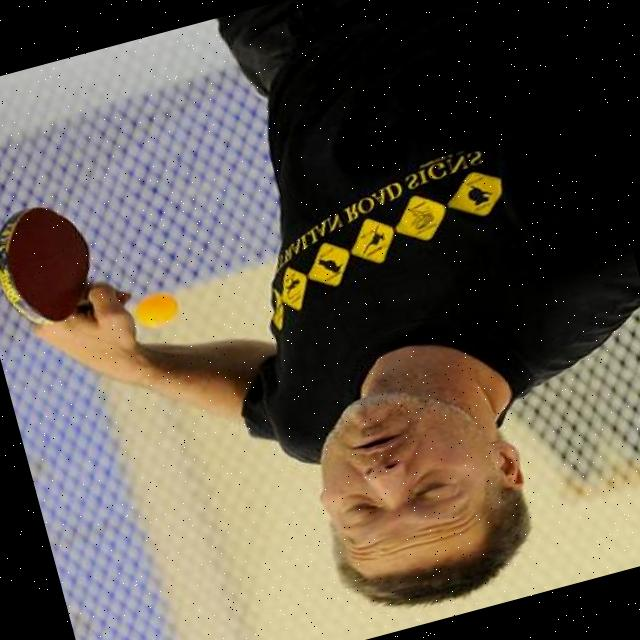ping-pong-ball: (127, 286, 184, 332)
